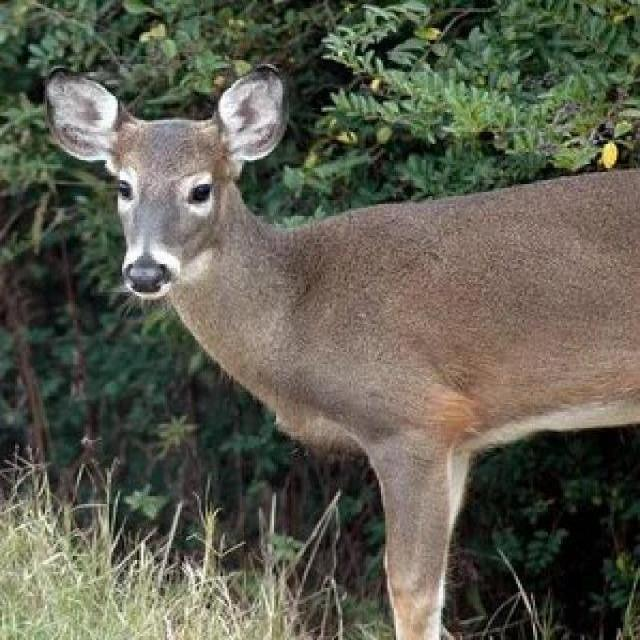deer: (109, 69, 640, 564)
